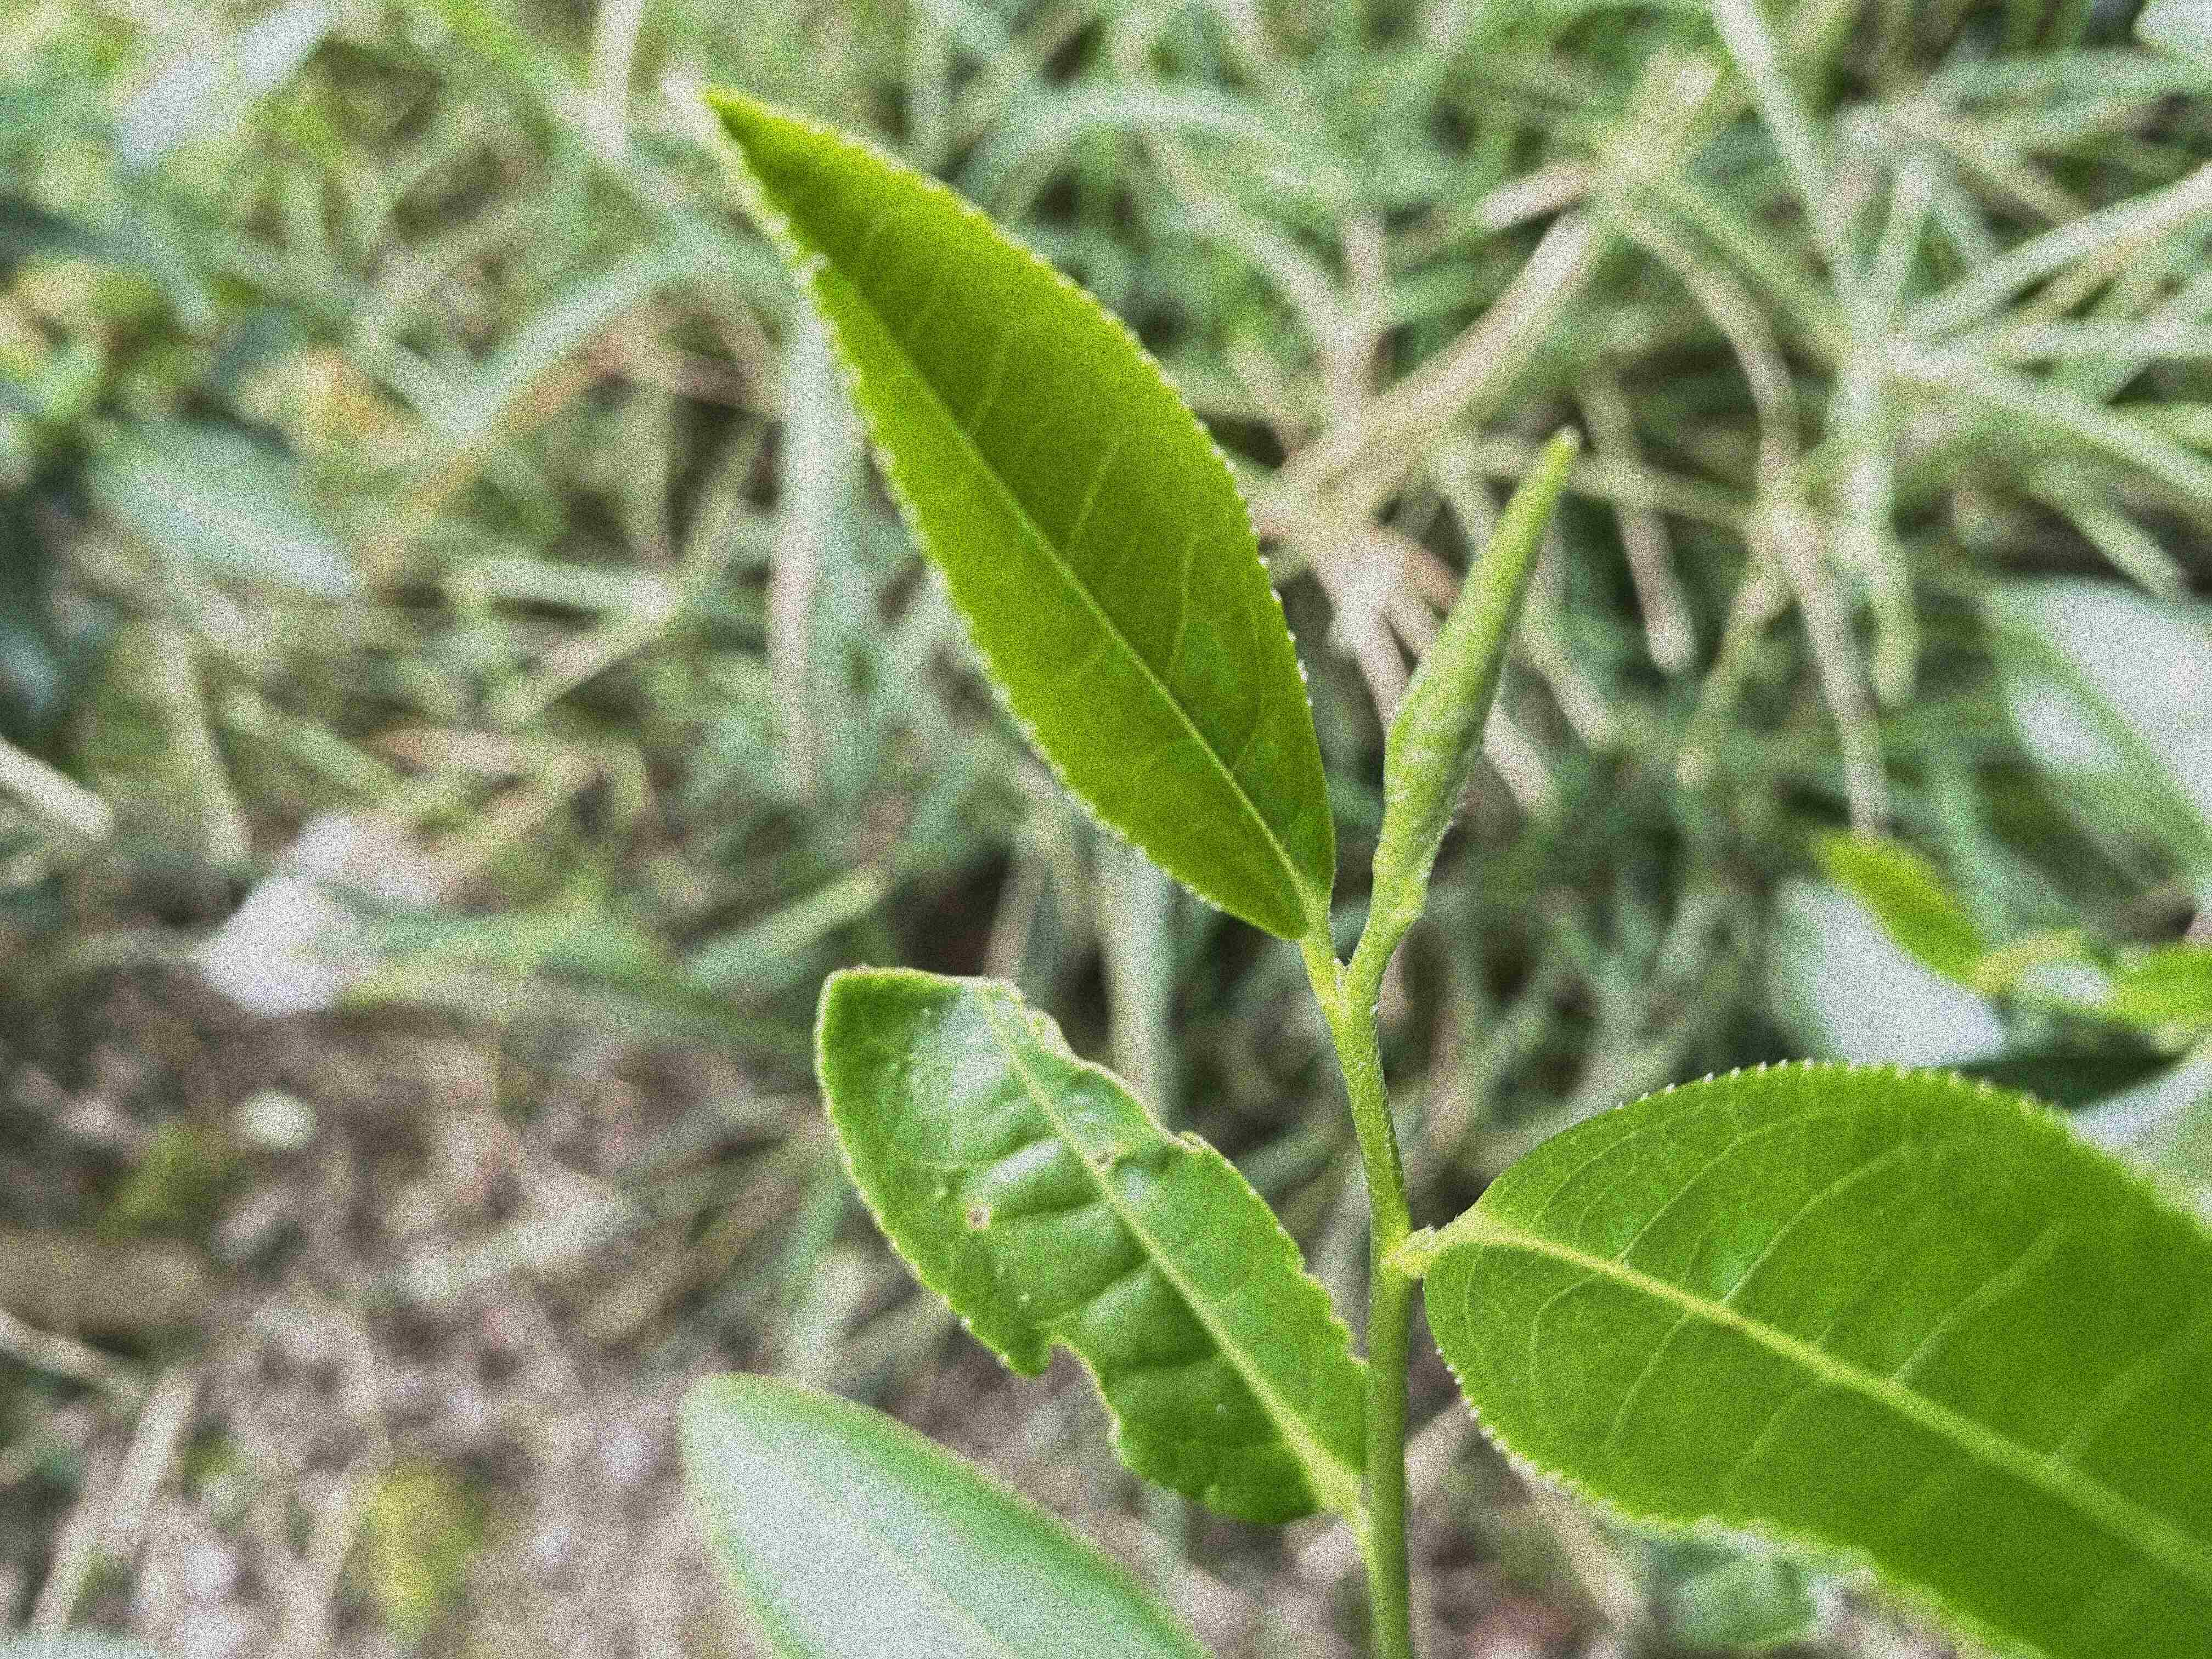chihuo_high: (810, 958, 1364, 1521)
healthy: (685, 84, 1339, 941), (1421, 1053, 2210, 1654)
